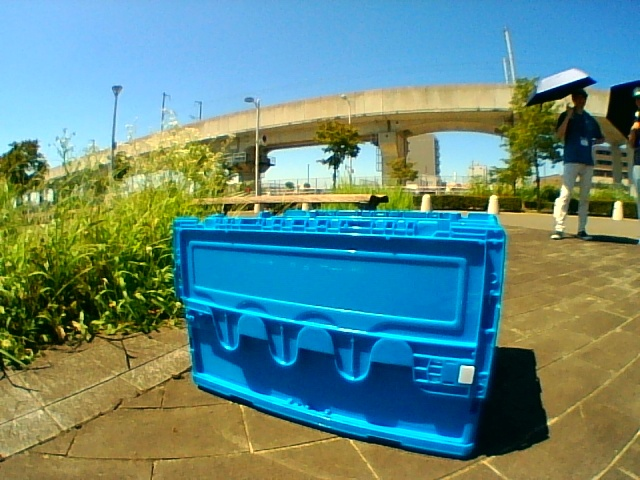blue_box: (191, 217, 498, 382)
